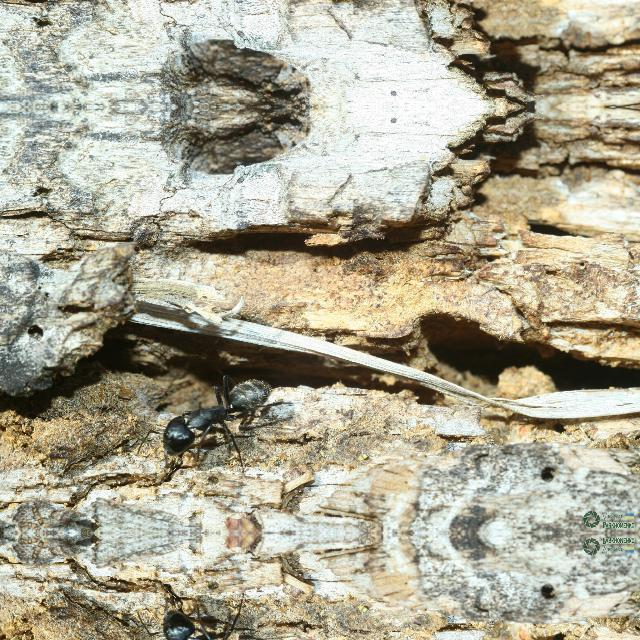Camponotus: (134, 356, 284, 466), (134, 598, 282, 640)
